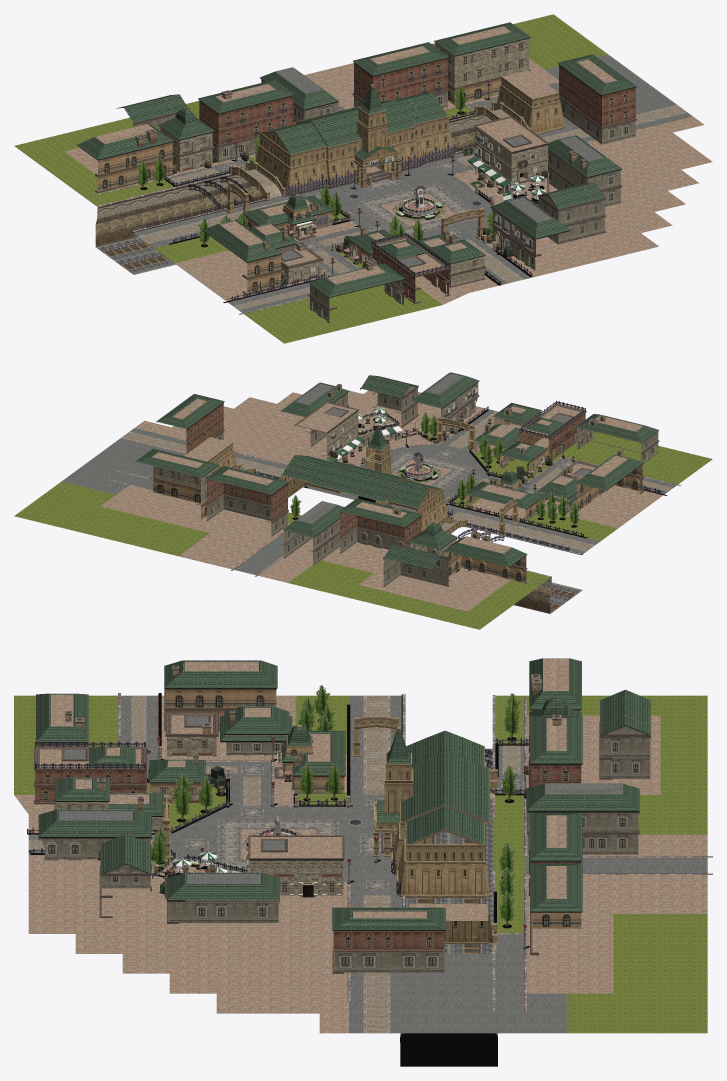
The model's file is altair.glb.
The picture shows the model from 3 angles, top to bottom: view 1: azimuth 30°, elevation 25°; view 2: azimuth 150°, elevation 25°; view 3: azimuth 270°, elevation 25°; orthographic projection. The views are drawn at different scales.
Visible parts, largest first — view 1: Asset3DLoader.sceneRoot; view 2: Asset3DLoader.sceneRoot; view 3: Asset3DLoader.sceneRoot.
Part boxes in pixels (x1=…): Asset3DLoader.sceneRoot: x1=14, y1=14, x2=712, y2=343; Asset3DLoader.sceneRoot: x1=14, y1=372, x2=712, y2=629; Asset3DLoader.sceneRoot: x1=14, y1=658, x2=712, y2=1066.
Size of the model in its own units: 137 by 31.9 by 119.
Materials: 24 (24 with a texture image).
